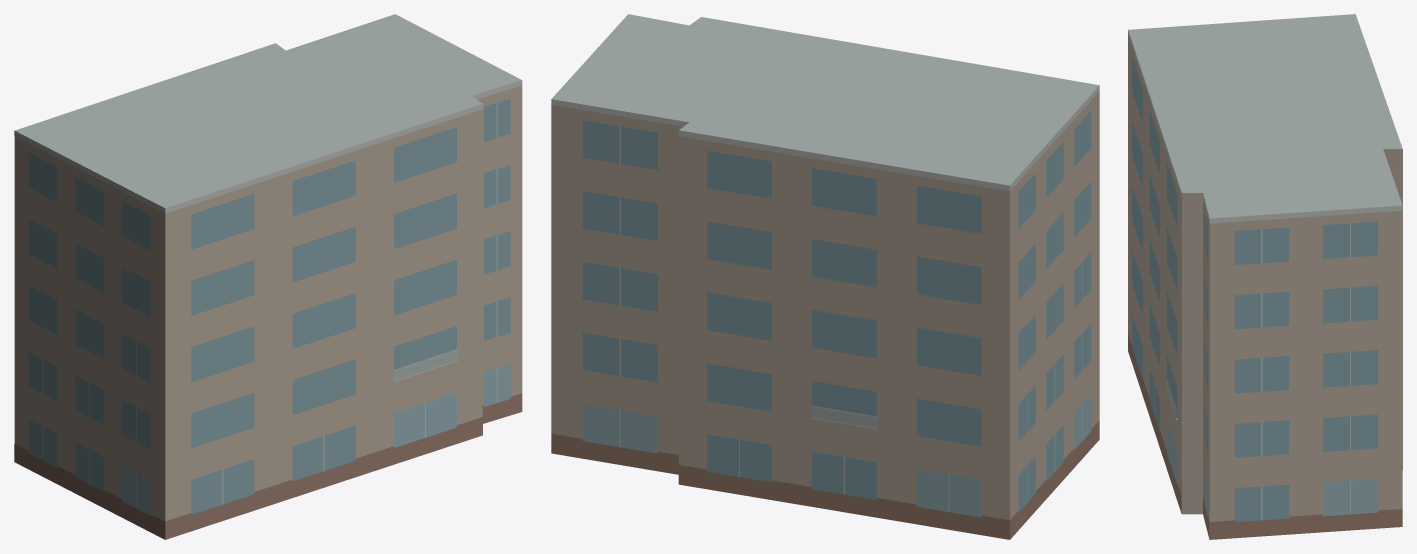
The model's file is survey-upis-32560787.glb.
The picture shows the model from 3 angles, left to right: view 1: azimuth 30°, elevation 25°; view 2: azimuth 150°, elevation 25°; view 3: azimuth 270°, elevation 25°; orthographic projection. The views are drawn at different scales.
Parts seen in each view (by area): view 1: survey-upis-32560787.tmp; view 2: survey-upis-32560787.tmp; view 3: survey-upis-32560787.tmp.
Part boxes in pixels (box(x1,y1,x2,y2)): survey-upis-32560787.tmp: box(14, 14, 522, 539); survey-upis-32560787.tmp: box(551, 14, 1099, 539); survey-upis-32560787.tmp: box(1128, 14, 1402, 539).
Bounding box in the file's own units: 20.83 × 15.25 × 11.83.
